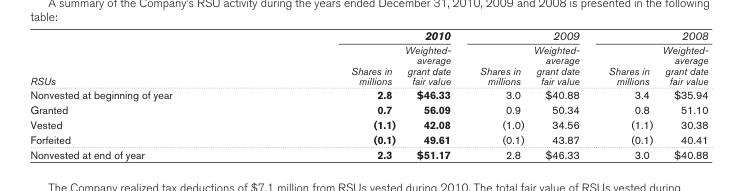table: (29, 28, 707, 160)
table column: (29, 28, 260, 160), (260, 28, 399, 160), (399, 28, 464, 160), (528, 28, 593, 160), (464, 28, 528, 160), (593, 28, 656, 160), (656, 28, 707, 160)
table column header: (29, 28, 707, 87)
table row: (29, 42, 707, 87), (29, 87, 707, 102), (29, 116, 707, 131), (29, 131, 707, 146), (29, 28, 707, 42), (29, 102, 707, 116), (29, 146, 707, 160)
table spanning cell: (29, 28, 260, 87), (260, 28, 464, 42), (464, 28, 593, 42), (593, 28, 707, 42)
